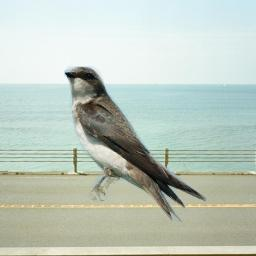Swallow: (64, 66, 207, 222)
